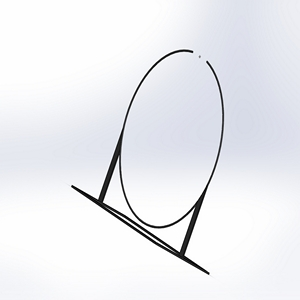circle: (69, 47, 226, 276)
